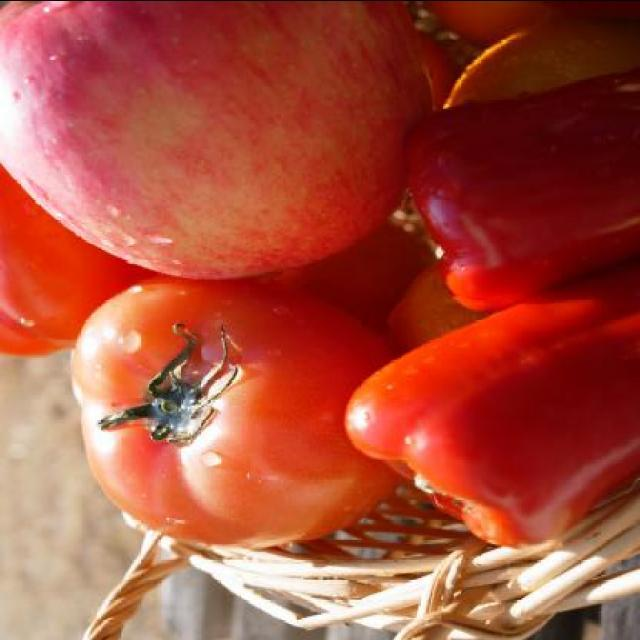Apple pie: (1, 1, 444, 279)
